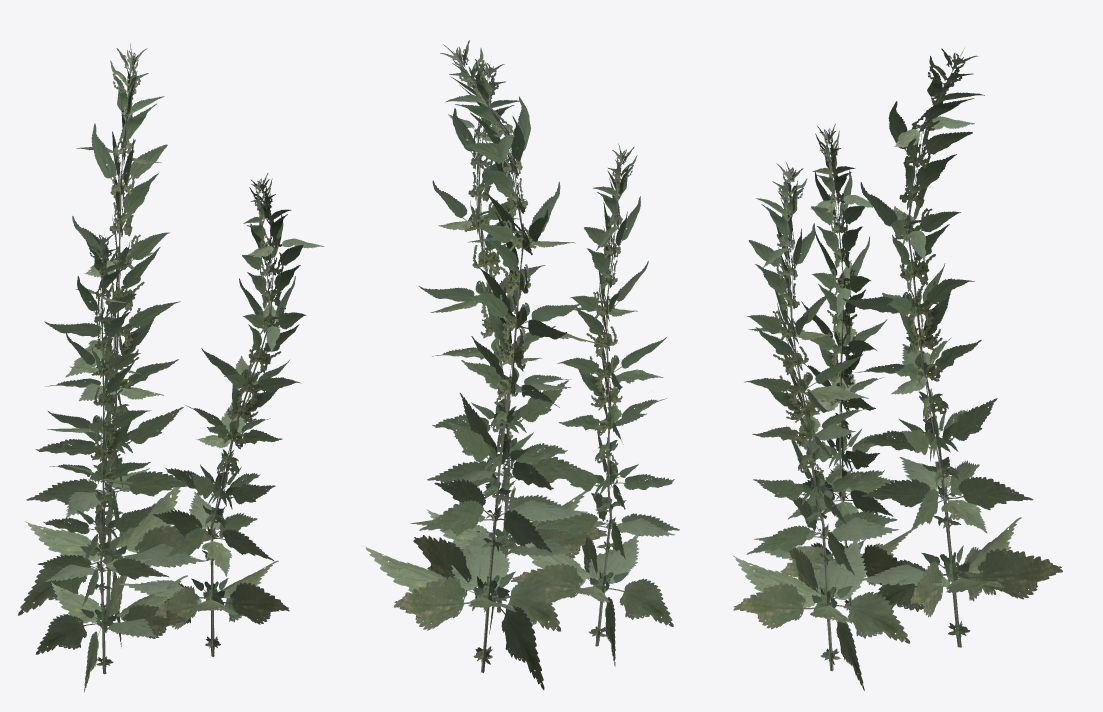
File: sm_Nettle_01_03.fbx
3 renders of one model, left to right at view 1: azimuth 30°, elevation 25°; view 2: azimuth 150°, elevation 25°; view 3: azimuth 270°, elevation 25°, orthographic. The views are drawn at different scales.
Parts seen in each view (by area): view 1: sm_Nettle_01_03_LOD0; view 2: sm_Nettle_01_03_LOD0; view 3: sm_Nettle_01_03_LOD0.
Boxes of the visible parts, x1,y1,x2,y2 form: sm_Nettle_01_03_LOD0: (18,43,324,692); sm_Nettle_01_03_LOD0: (365,40,679,689); sm_Nettle_01_03_LOD0: (733,48,1062,690).
Bounding box in the file's own units: 61.26 × 70.57 × 135.
